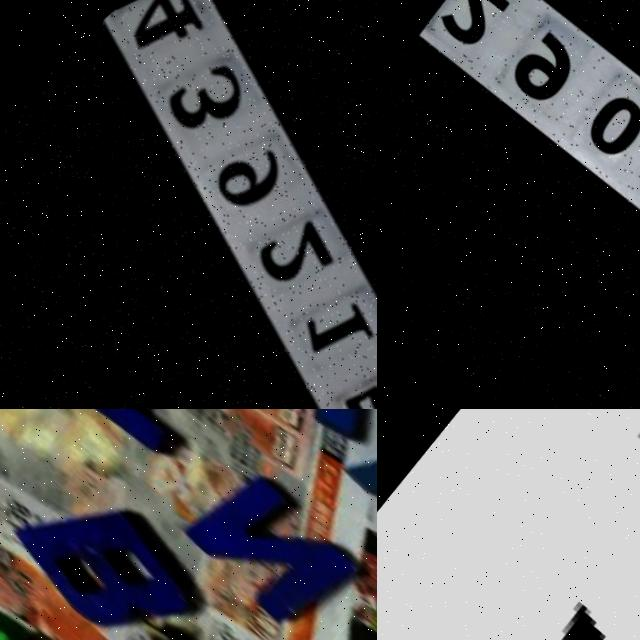0: (547, 59, 640, 182)
1: (265, 263, 377, 388)
2: (216, 180, 357, 320), (410, 0, 532, 78)
3: (128, 22, 274, 170)
4: (85, 0, 231, 92)
5: (377, 409, 640, 640), (305, 330, 377, 409)
9: (175, 105, 311, 242), (472, 0, 604, 133)
B: (5, 471, 203, 640)
N: (174, 454, 359, 632)
T: (43, 409, 228, 472)
V: (330, 409, 377, 570)
